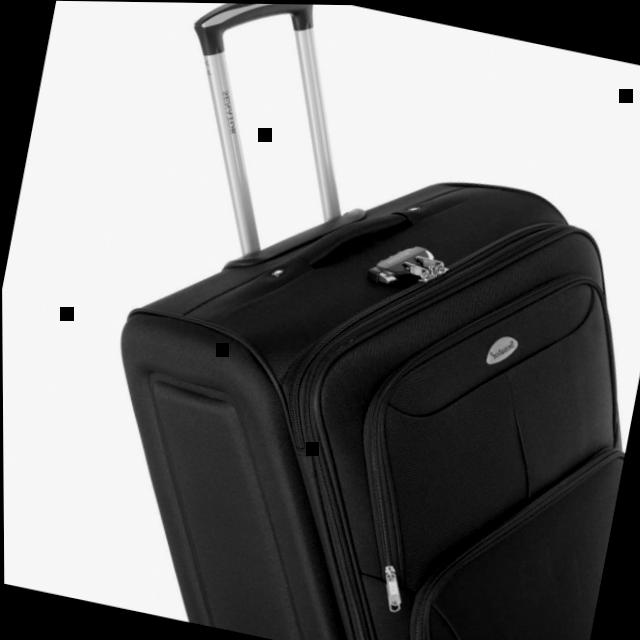luggage: (53, 101, 640, 640)
